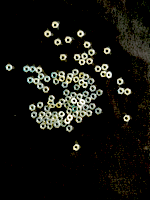nut: (5, 64, 13, 72), (88, 49, 95, 57), (117, 78, 124, 86), (66, 125, 73, 133), (52, 22, 59, 29), (44, 31, 51, 38), (77, 31, 84, 38), (84, 42, 91, 49), (104, 48, 111, 55), (74, 54, 81, 61), (60, 54, 67, 61), (79, 59, 86, 66), (86, 58, 93, 65), (95, 66, 102, 73), (102, 64, 109, 71), (100, 71, 107, 78), (106, 72, 113, 79), (118, 88, 125, 95), (23, 66, 30, 73), (29, 66, 36, 73), (44, 76, 51, 83), (51, 72, 58, 79), (27, 77, 34, 84), (33, 78, 40, 85), (53, 78, 60, 85), (59, 75, 66, 82), (72, 69, 79, 76), (66, 77, 73, 84), (62, 82, 69, 89), (73, 76, 80, 83), (83, 74, 90, 81), (88, 78, 95, 85), (78, 79, 85, 86), (74, 84, 81, 91), (96, 90, 103, 97), (63, 90, 70, 97), (70, 92, 77, 99), (85, 97, 92, 104), (37, 102, 44, 109), (29, 105, 36, 112), (79, 99, 86, 106), (95, 108, 102, 115), (86, 110, 93, 117), (67, 115, 74, 122), (64, 118, 71, 125), (58, 111, 65, 118), (36, 117, 43, 124), (46, 119, 53, 126), (40, 123, 47, 130), (73, 144, 80, 151), (89, 86, 97, 92), (47, 100, 55, 106), (43, 106, 51, 112), (55, 39, 61, 46), (65, 37, 72, 43), (82, 53, 88, 60), (125, 89, 131, 96), (124, 116, 131, 122), (36, 67, 42, 74), (38, 74, 45, 80), (58, 71, 65, 77), (37, 83, 43, 90), (42, 87, 49, 93), (67, 73, 74, 79), (79, 72, 85, 79), (82, 82, 88, 89), (77, 94, 83, 101), (83, 91, 89, 98), (90, 94, 97, 100), (65, 96, 71, 103), (56, 102, 62, 109), (71, 99, 78, 105), (64, 103, 71, 109), (89, 104, 96, 110), (72, 106, 78, 113), (76, 106, 82, 113), (80, 111, 86, 118), (66, 109, 73, 115), (76, 117, 82, 124), (45, 112, 52, 118), (39, 112, 46, 118), (31, 112, 37, 119), (51, 115, 58, 121), (61, 121, 67, 128), (53, 122, 60, 128), (59, 99, 65, 105), (77, 102, 83, 108), (69, 102, 75, 108), (83, 105, 89, 111), (73, 112, 79, 118), (52, 112, 58, 118), (57, 116, 63, 122), (50, 118, 56, 124), (43, 118, 49, 124), (47, 124, 53, 130), (48, 96, 55, 101), (49, 104, 56, 109)
